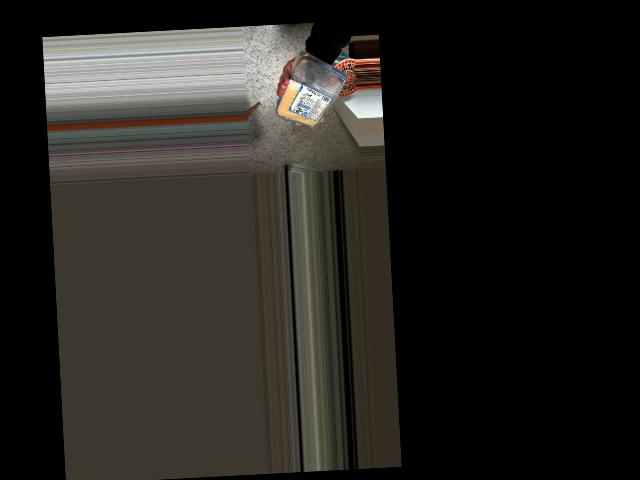cheese: (278, 66, 354, 131)
